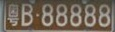B: (21, 4, 33, 26)
